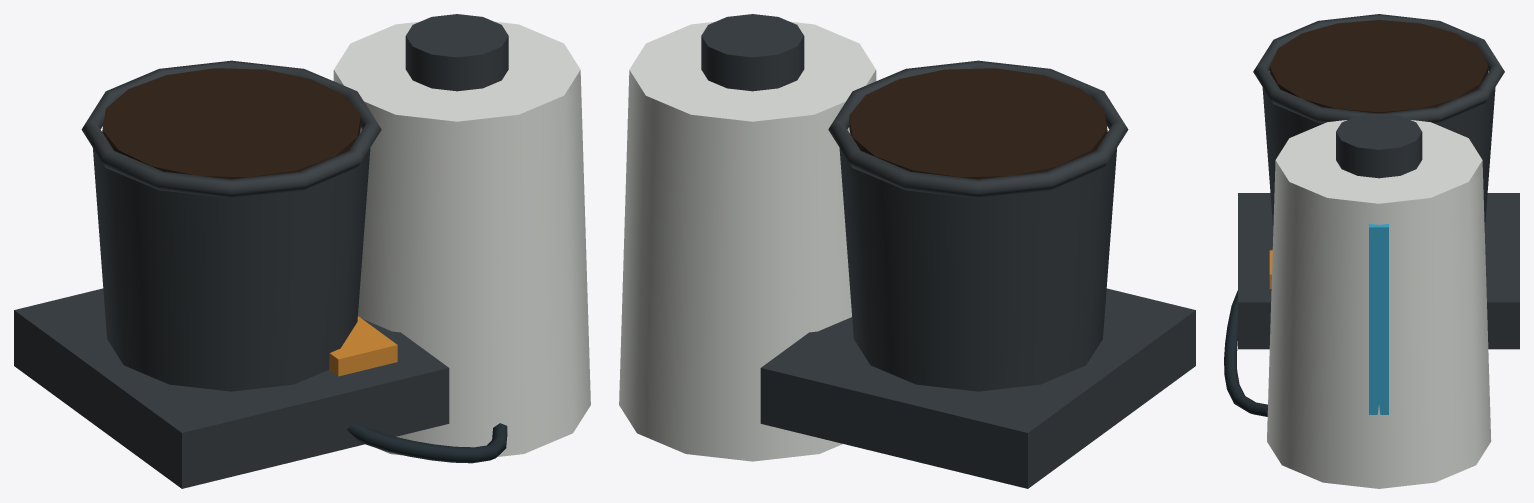
The model's file is pot-hydro-autopot.glb.
3 renders of one model, left to right at view 1: azimuth 30°, elevation 25°; view 2: azimuth 150°, elevation 25°; view 3: azimuth 270°, elevation 25°, orthographic. The views are drawn at different scales.
Parts seen in each view (by area): view 1: nutrientReservoir, hydroGrowPot, autopotTray, soil, hydroPotRim, reservoirCap, feedTube, floatValveIndicator; view 2: nutrientReservoir, hydroGrowPot, autopotTray, soil, hydroPotRim, reservoirCap; view 3: nutrientReservoir, soil, autopotTray, hydroPotRim, reservoirCap, hydroGrowPot, waterLevelIndicator, feedTube.
Boxes of the visible parts, box(x1,y1,x2,y2) form: nutrientReservoir: box(333, 21, 590, 456); hydroGrowPot: box(93, 148, 370, 391); autopotTray: box(14, 288, 449, 488); soil: box(102, 68, 360, 179); hydroPotRim: box(81, 60, 381, 198); reservoirCap: box(405, 14, 508, 91); feedTube: box(347, 423, 507, 463); floatValveIndicator: box(329, 316, 397, 376); nutrientReservoir: box(619, 21, 876, 461); hydroGrowPot: box(839, 148, 1116, 391); autopotTray: box(760, 288, 1195, 488); soil: box(849, 68, 1107, 179); hydroPotRim: box(828, 60, 1128, 198); reservoirCap: box(701, 14, 804, 91); nutrientReservoir: box(1267, 120, 1491, 488); soil: box(1269, 20, 1488, 113); autopotTray: box(1238, 193, 1519, 349); hydroPotRim: box(1253, 14, 1504, 123); reservoirCap: box(1336, 113, 1422, 178); hydroGrowPot: box(1262, 87, 1495, 230); waterLevelIndicator: box(1369, 224, 1388, 414); feedTube: box(1224, 290, 1267, 416).
Bounding box in the file's own units: 0.8 × 0.5945 × 0.5145.
